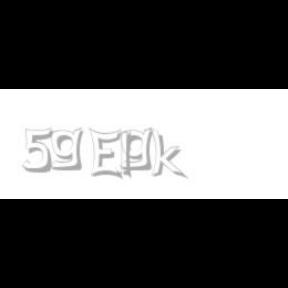5: (22, 128, 54, 174)
E: (88, 128, 122, 180)
g: (51, 128, 88, 171), (120, 128, 156, 171)
k: (149, 128, 187, 180)
l: (119, 128, 135, 180)
